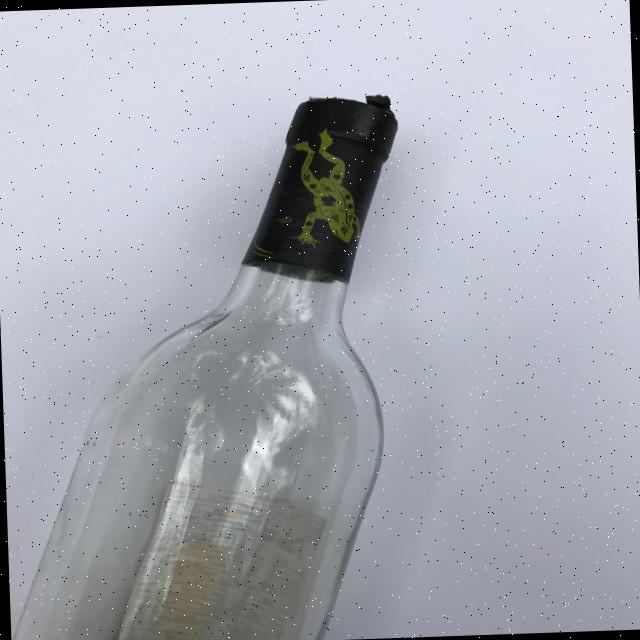glass: (0, 65, 447, 640)
